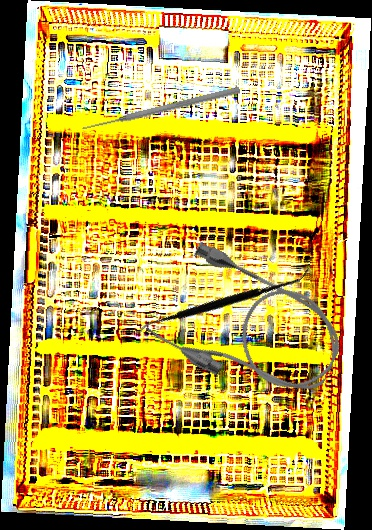Cannula: (141, 236, 356, 420)
Pusher: (81, 84, 241, 134)
Spatula Surgical: (135, 209, 311, 392)
